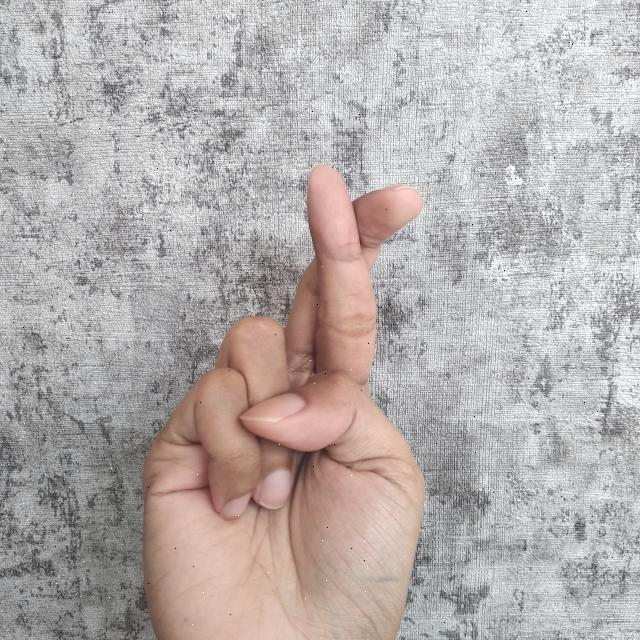R: (126, 160, 455, 640)
